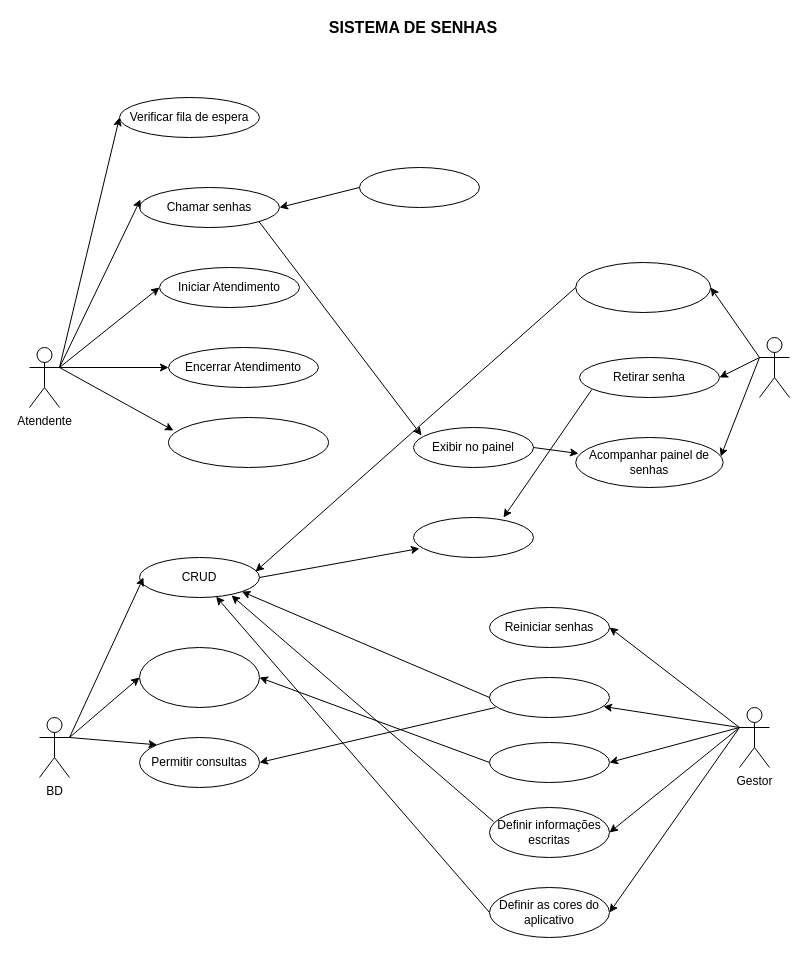
This 810x955 diagram has some shape labels left out. The shapes that lost their labels are listed below. From the top down, each one's centre as x and y in pixels, then its label:
At [419,187]: "Rechamar Senhas".
At [643,287]: "Escolher o tipo de atendimento".
At [774,367]: "Cliente".
At [248,442]: "Realizar chamada avulsa".
At [473,537]: "Imprimir cupons".
At [199,677]: "Gerar tabelas com dados específicos".
At [549,697]: "Gerenciar os dados".
At [549,762]: "Gerar relatórios".
